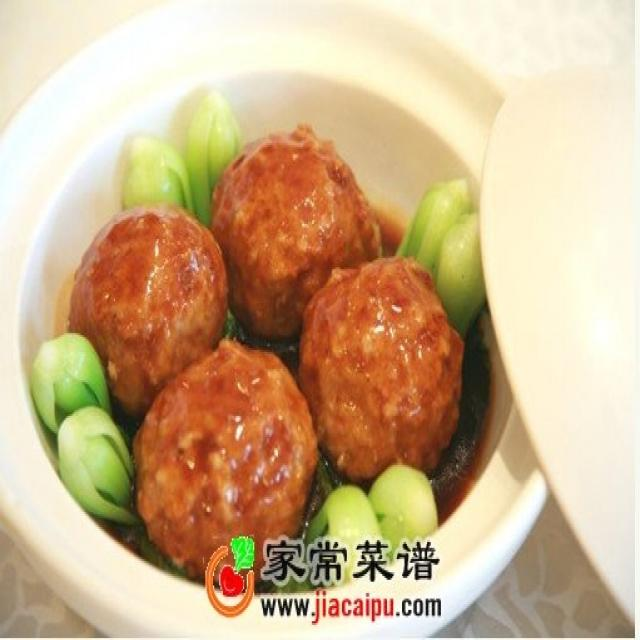Meatball: (290, 245, 478, 482), (56, 186, 232, 428), (205, 111, 384, 346), (127, 326, 318, 530)
